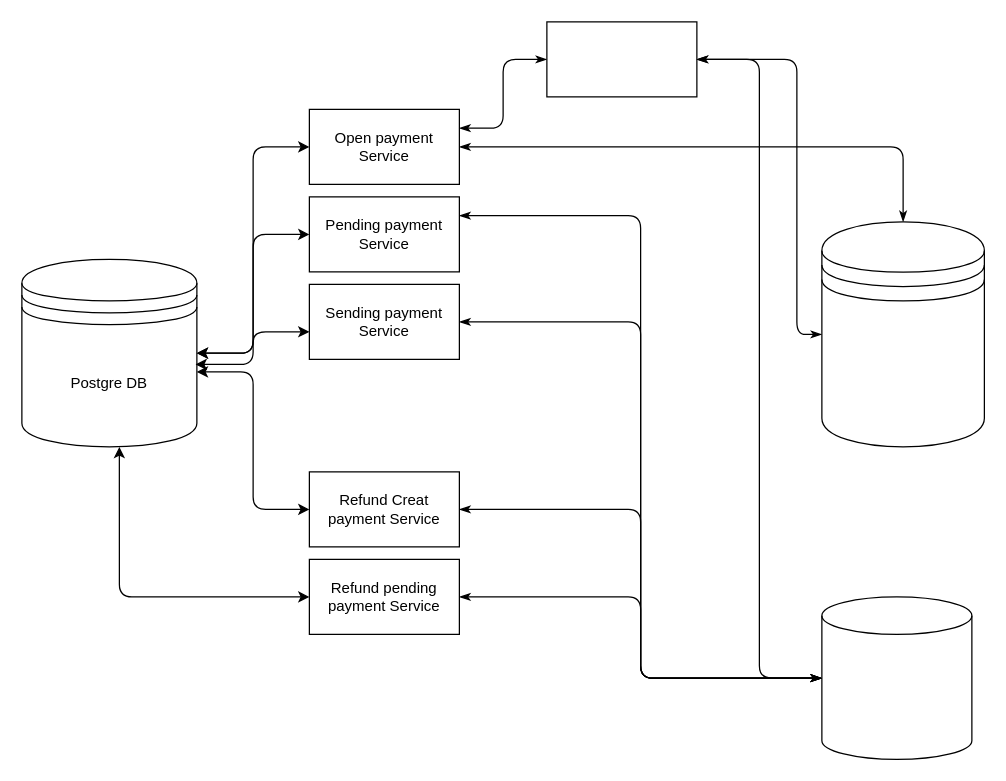
Image size: 1006x781. Some labels were removed from this diagram. The box of each missing label's shape, as (x1, y1, x2, y2) in pixels:
Chain Network: (821, 596, 972, 759)
Event Crawler Service: (546, 21, 697, 97)
Mongo DB: (821, 221, 984, 447)
